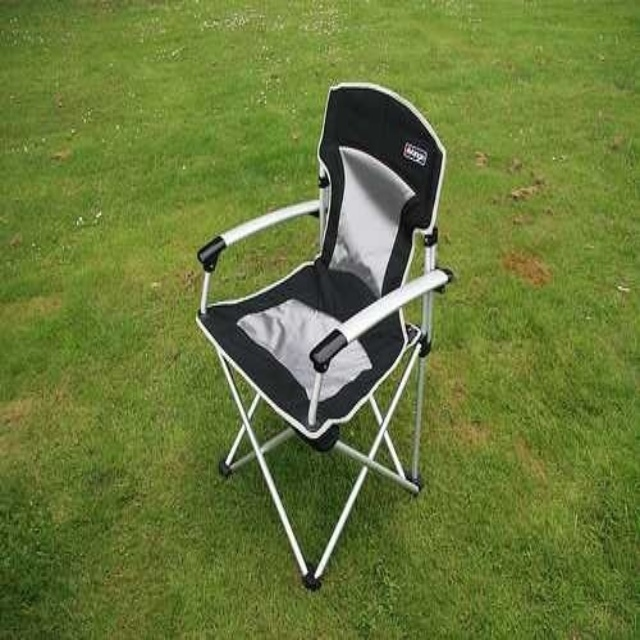obstacle: (197, 83, 451, 588)
